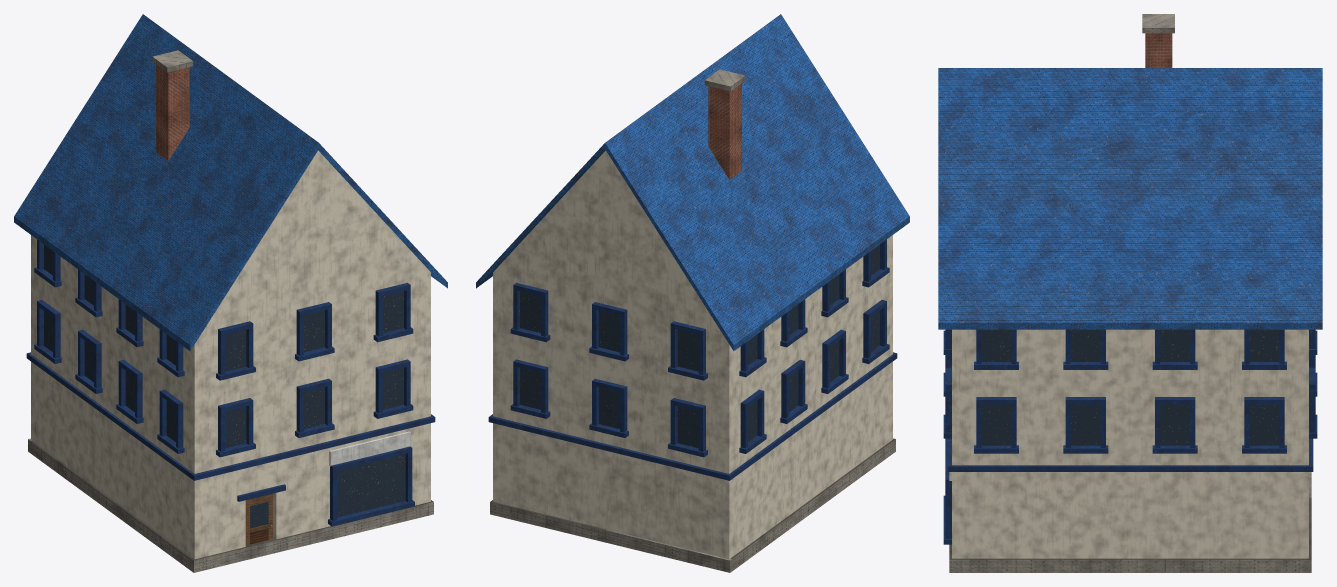
Rendered from Bld_TownHouse_A.fbx.
3 renders of one model, left to right at view 1: azimuth 30°, elevation 25°; view 2: azimuth 150°, elevation 25°; view 3: azimuth 270°, elevation 25°, orthographic. The views are drawn at different scales.
Visible parts, largest first — view 1: Roof, Walls_Room, Windows_Upper, ShopFront, Plinth, Chimney, FloorBand, Door_TownHouse_A; view 2: Roof, Walls_Room, Windows_Upper, Plinth, Chimney, FloorBand; view 3: Roof, Walls_Room, Windows_Upper, Plinth, FloorBand, Chimney, ShopFront.
Boxes of the visible parts, x1,y1,x2,y2 form: Roof: [14, 14, 447, 350]; Walls_Room: [31, 235, 430, 559]; Windows_Upper: [34, 239, 413, 457]; ShopFront: [237, 431, 414, 526]; Plinth: [28, 438, 433, 572]; Chimney: [152, 50, 193, 160]; FloorBand: [26, 352, 435, 480]; Door_TownHouse_A: [245, 493, 272, 545]; Roof: [476, 14, 909, 350]; Walls_Room: [493, 235, 892, 559]; Windows_Upper: [510, 239, 889, 457]; Plinth: [490, 438, 895, 572]; Chimney: [704, 69, 745, 179]; FloorBand: [488, 352, 897, 480]; Roof: [938, 68, 1322, 329]; Walls_Room: [952, 329, 1308, 558]; Windows_Upper: [943, 329, 1317, 453]; Plinth: [949, 472, 1311, 572]; FloorBand: [947, 438, 1313, 471]; Chimney: [1142, 14, 1174, 67]; ShopFront: [943, 438, 951, 544].
Bounding box in the file's own units: 10.9 × 17.2 × 12.9.
